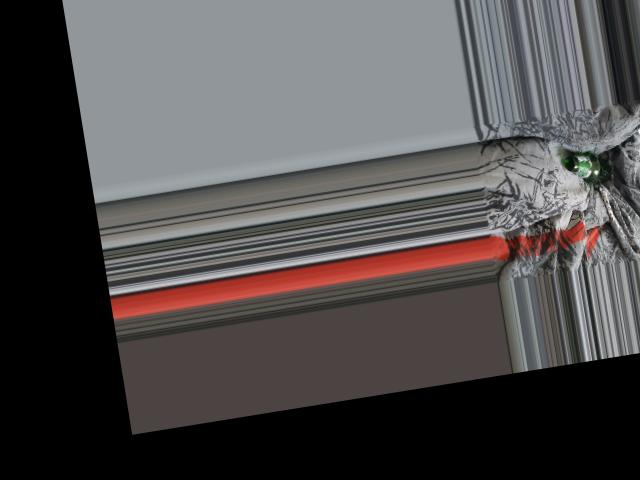beer: (562, 148, 612, 187)
